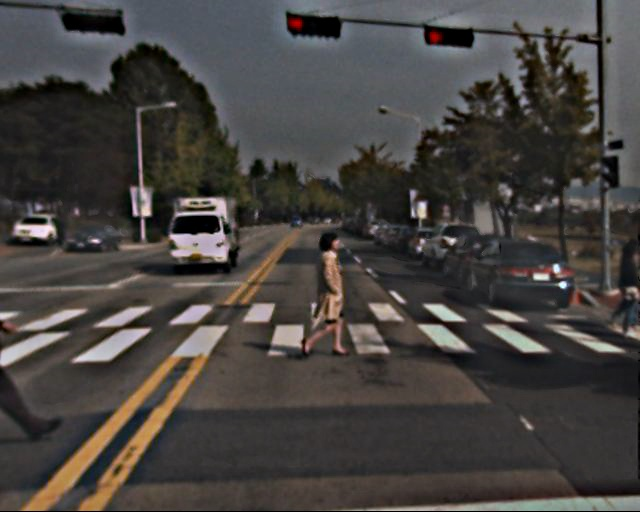person: (299, 232, 352, 356), (606, 239, 640, 336)
